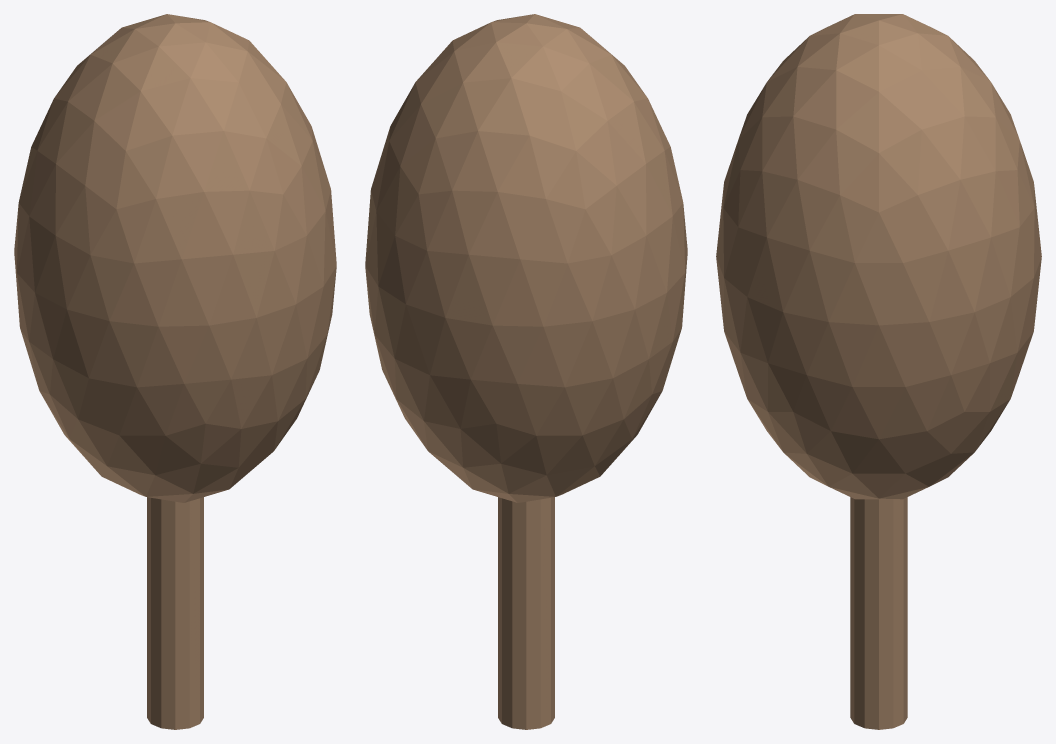
File: Tree_7.glb
3 views of the same model, side by side, from view 1: azimuth 30°, elevation 25°; view 2: azimuth 150°, elevation 25°; view 3: azimuth 270°, elevation 25° (orthographic).
Parts seen in each view (by area): view 1: Tree_9; view 2: Tree_9; view 3: Tree_9.
Part boxes in pixels (bbox=[...]): Tree_9: bbox=[14, 14, 336, 729]; Tree_9: bbox=[365, 14, 687, 729]; Tree_9: bbox=[716, 14, 1041, 729].
Bounding box in the file's own units: 1.6 × 3.78 × 1.6.
